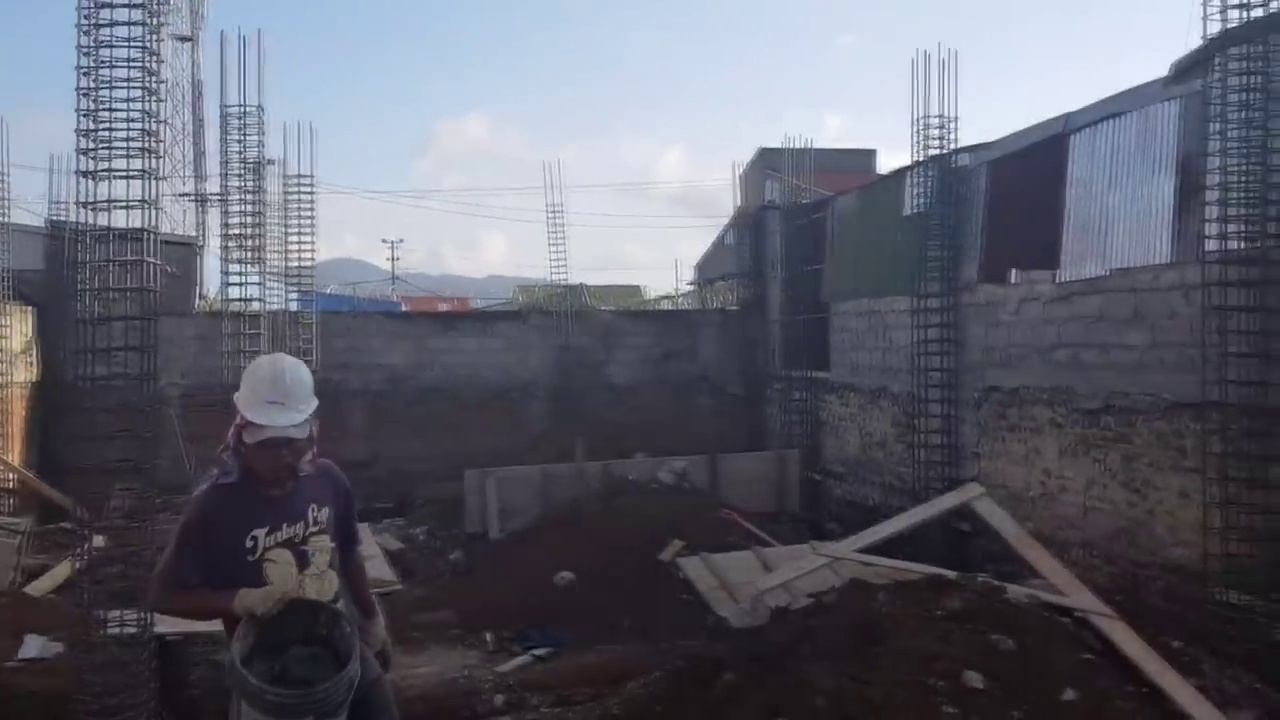helmet: (227, 352, 318, 435)
helmet-on: (230, 346, 320, 500)
person: (145, 332, 393, 719)
